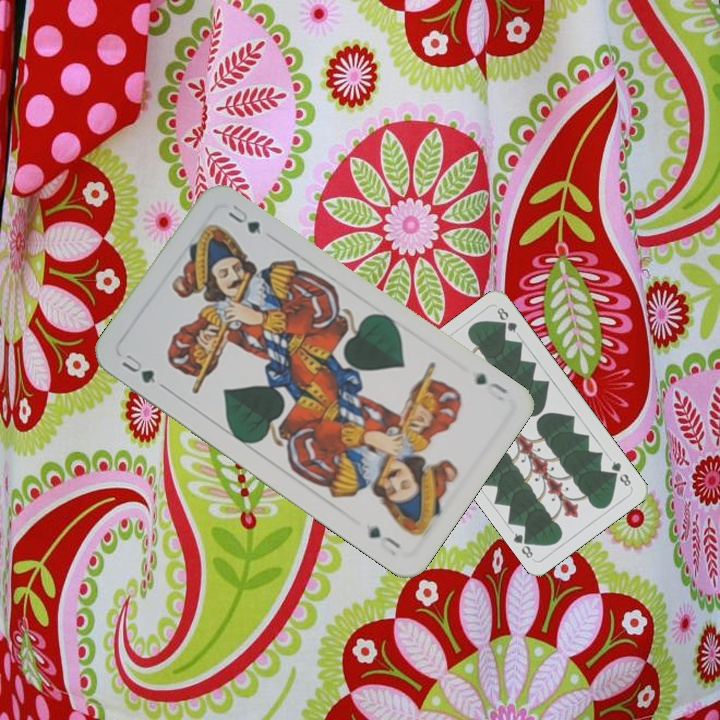G8: (607, 457, 634, 489)
GU: (117, 350, 167, 391), (471, 368, 511, 397)
